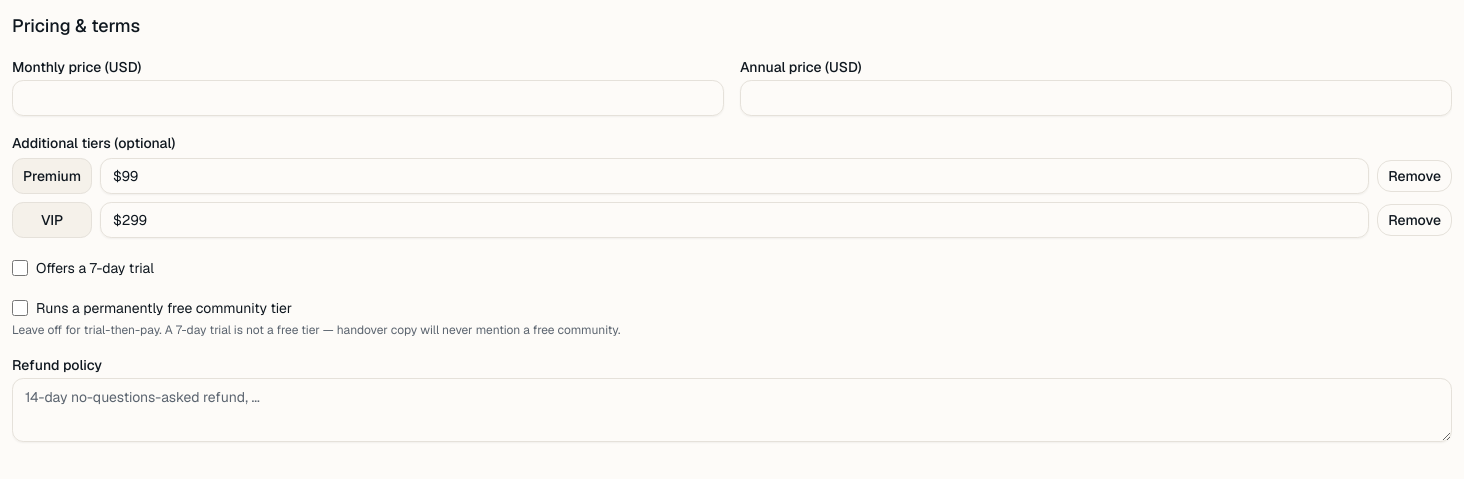
it: Step3Pricing — additional tiers › removing VIP alone drops VIP and re-exposes 'Add VIP tier'
Click the button "Remove" in the row of "VIP" at point(1415, 220), box [1377,204,1452,236]
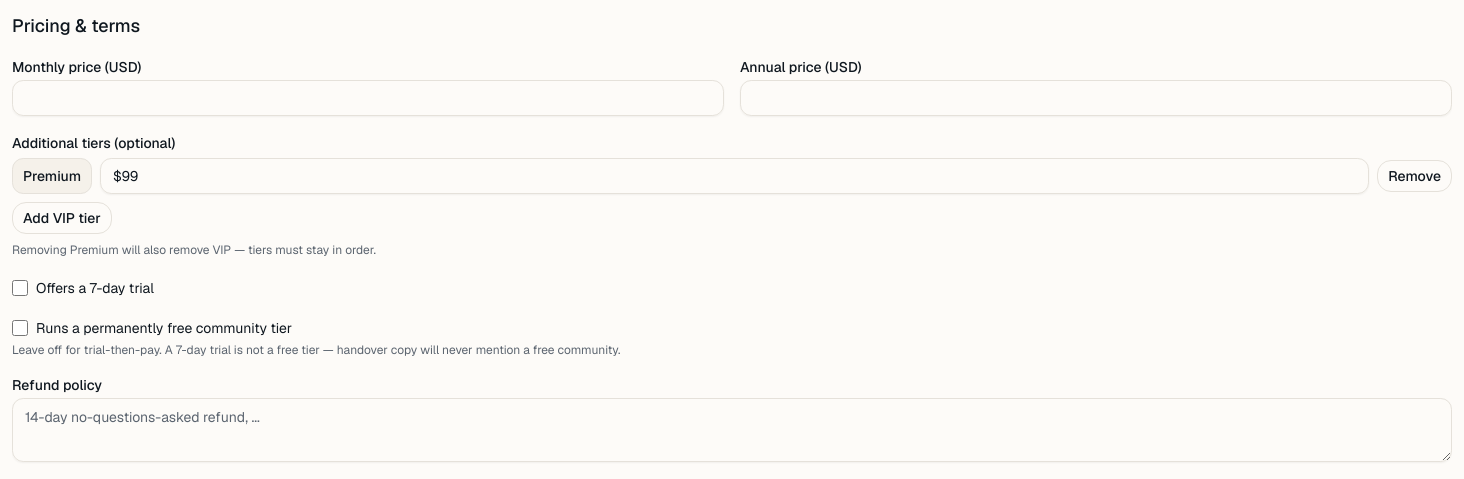
Expected: the text named "Premium tier" is shown, [12,158,92,194]
Expected: the button "Add VIP tier" is shown, [12,202,112,234]
